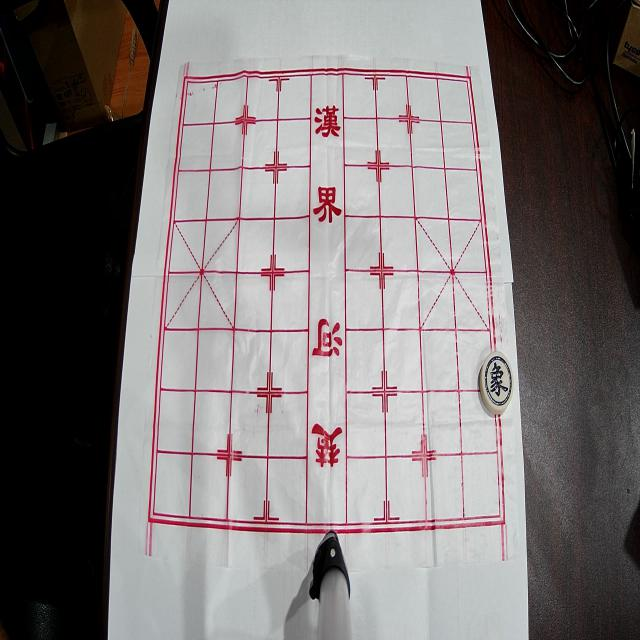black-elephant: (479, 352, 514, 414)
